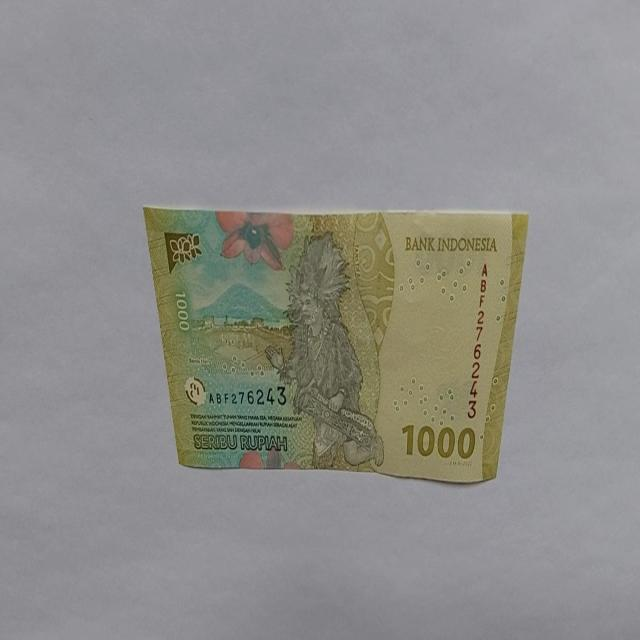seribu rupiah kertas: (142, 205, 530, 482)
